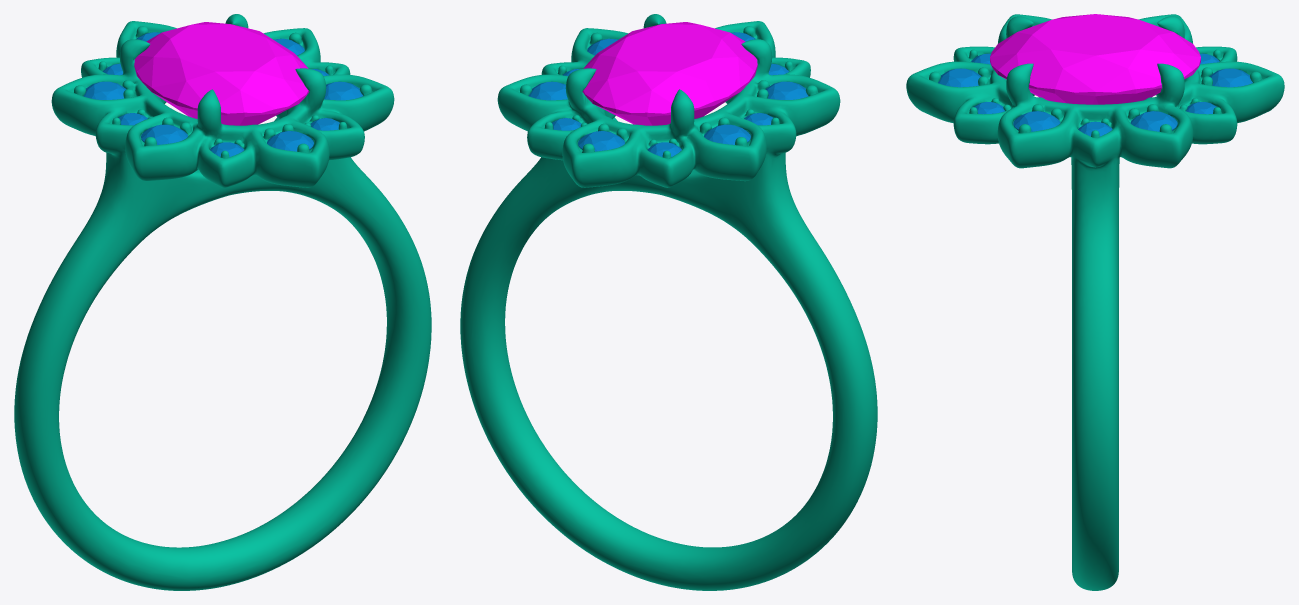
File: BE1D788_OV_200ct_RENDER.glb
The picture shows the model from 3 angles, left to right: view 1: azimuth 30°, elevation 25°; view 2: azimuth 150°, elevation 25°; view 3: azimuth 270°, elevation 25°; orthographic projection.
Parts seen in each view (by area): view 1: Metal 01, CS_Diamond_Oval, Diamond_Round_Gem_HD, Diamond_Round_Gem_HD.005, Diamond_Round_Gem_HD.008, Diamond_Round_Gem_HD.002; view 2: Metal 01, CS_Diamond_Oval, Diamond_Round_Gem_HD.011, Diamond_Round_Gem_HD.008, Diamond_Round_Gem_HD.005, Diamond_Round_Gem_HD.009; view 3: Metal 01, CS_Diamond_Oval, Diamond_Round_Gem_HD.002, Diamond_Round_Gem_HD.009, Diamond_Round_Gem_HD.011, Diamond_Round_Gem_HD.
Part boxes in pixels (box(x1,y1,x2,y2)): Metal 01: box(14, 14, 431, 590); CS_Diamond_Oval: box(134, 22, 309, 125); Diamond_Round_Gem_HD: box(267, 131, 313, 151); Diamond_Round_Gem_HD.005: box(141, 124, 187, 144); Diamond_Round_Gem_HD.008: box(83, 81, 126, 99); Diamond_Round_Gem_HD.002: box(324, 81, 363, 100); Metal 01: box(460, 14, 877, 590); CS_Diamond_Oval: box(582, 22, 757, 125); Diamond_Round_Gem_HD.011: box(578, 131, 624, 151); Diamond_Round_Gem_HD.008: box(704, 124, 750, 144); Diamond_Round_Gem_HD.005: box(765, 81, 808, 99); Diamond_Round_Gem_HD.009: box(528, 81, 567, 100); Metal 01: box(906, 14, 1284, 590); CS_Diamond_Oval: box(990, 14, 1200, 104); Diamond_Round_Gem_HD.002: box(1013, 111, 1060, 131); Diamond_Round_Gem_HD.009: box(1130, 111, 1177, 131); Diamond_Round_Gem_HD.011: box(1209, 68, 1252, 87); Diamond_Round_Gem_HD: box(938, 68, 981, 87).
Bounding box in the file's own units: 20.09 × 25.11 × 16.12.
